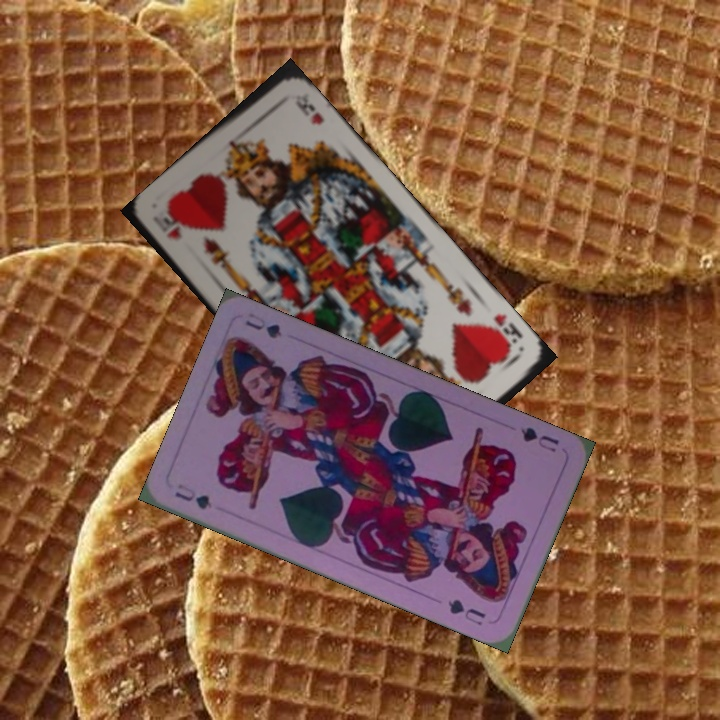GU: (170, 479, 215, 512), (516, 423, 562, 455)
HK: (479, 310, 526, 354), (150, 212, 184, 242)
